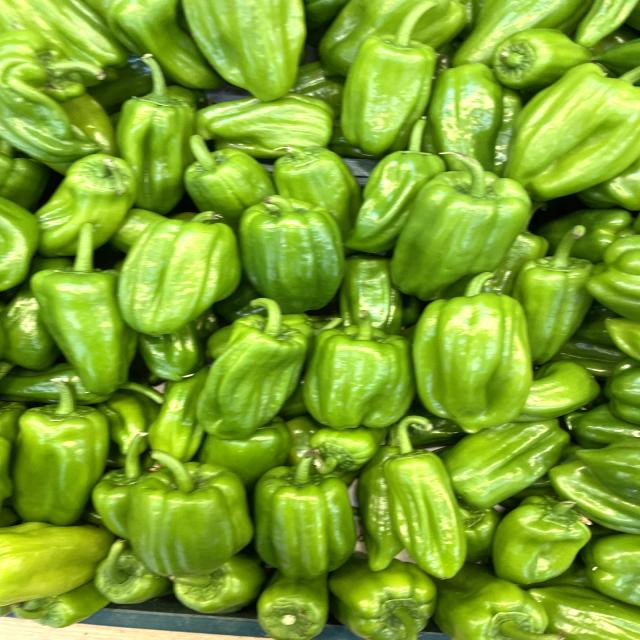bell pepper: (402, 262, 542, 438), (392, 145, 536, 299), (114, 443, 254, 581), (195, 288, 320, 441), (113, 202, 248, 334), (292, 299, 427, 431), (248, 434, 364, 582), (232, 191, 353, 314)
